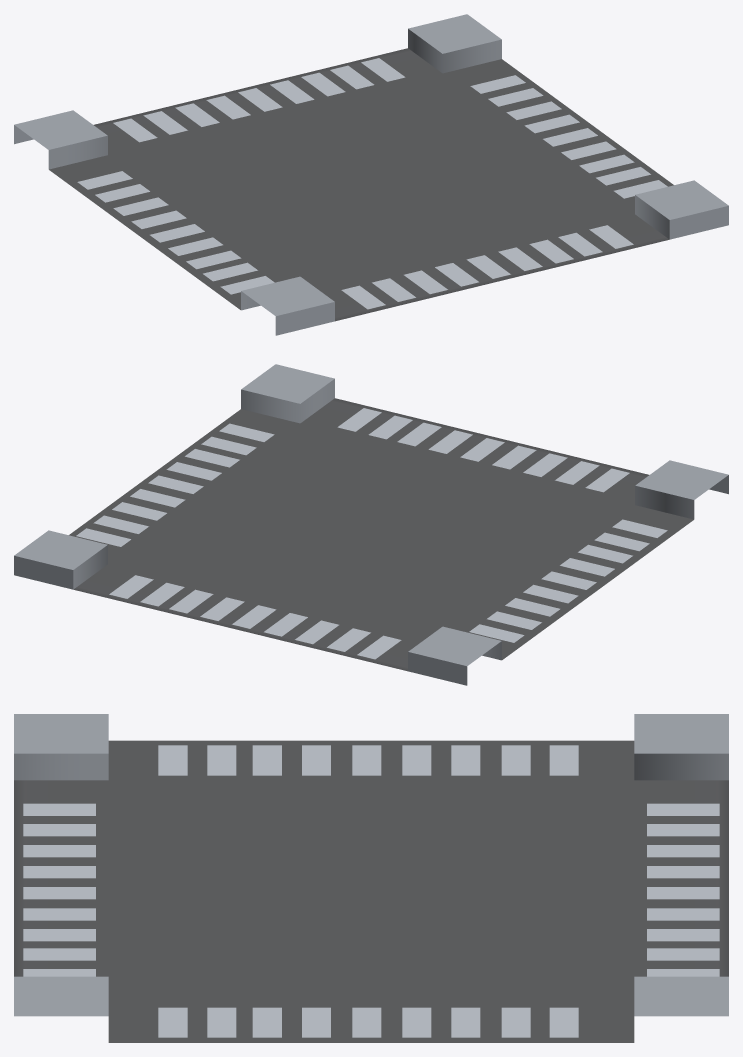
File: Road_Style5.fbx
3 views of the same model, one above another, from view 1: azimuth 30°, elevation 25°; view 2: azimuth 150°, elevation 25°; view 3: azimuth 270°, elevation 25° (orthographic). The views are drawn at different scales.
Visible parts, largest first — view 1: Road_Style5; view 2: Road_Style5; view 3: Road_Style5.
Part boxes in pixels (x1=…): Road_Style5: x1=14, y1=14, x2=728, y2=335; Road_Style5: x1=14, y1=364, x2=728, y2=685; Road_Style5: x1=14, y1=714, x2=728, y2=1042.
Bounding box in the file's own units: 2500 × 103 × 2500.
